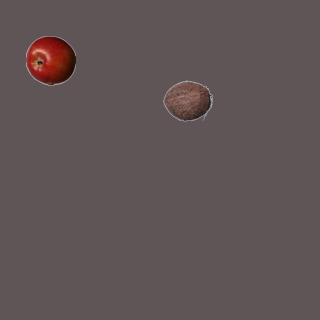Apple Braeburn: (25, 35, 75, 85)
Cocos: (162, 75, 212, 125)
